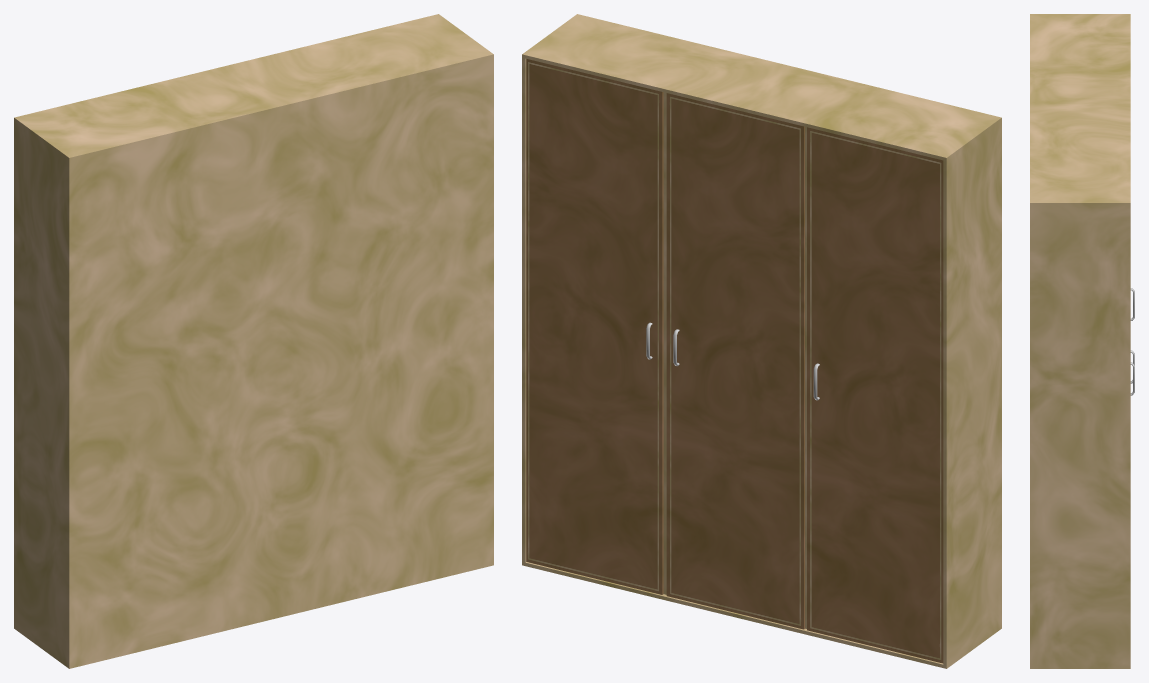
Rendered from ChildWardrobe.fbx.
The picture shows the model from 3 angles, left to right: view 1: azimuth 30°, elevation 25°; view 2: azimuth 150°, elevation 25°; view 3: azimuth 270°, elevation 25°; orthographic projection. The views are drawn at different scales.
Parts seen in each view (by area): view 1: Wardrobe; view 2: Wardrobe; view 3: Wardrobe.
Boxes of the visible parts, <box> form: Wardrobe: <box>14,14,493,668</box>; Wardrobe: <box>522,14,1001,668</box>; Wardrobe: <box>1030,14,1134,668</box>.
Size of the model in its own units: 200 by 230 by 46.94.
Materials: 1 (1 with a texture image).
